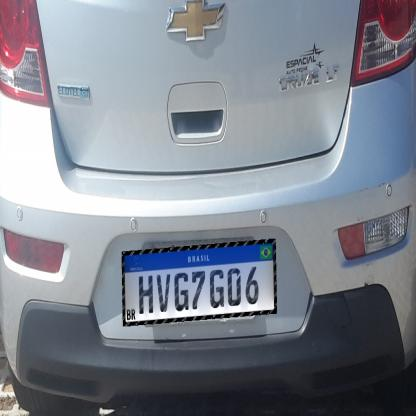PlacaM: (122, 239, 277, 326)
